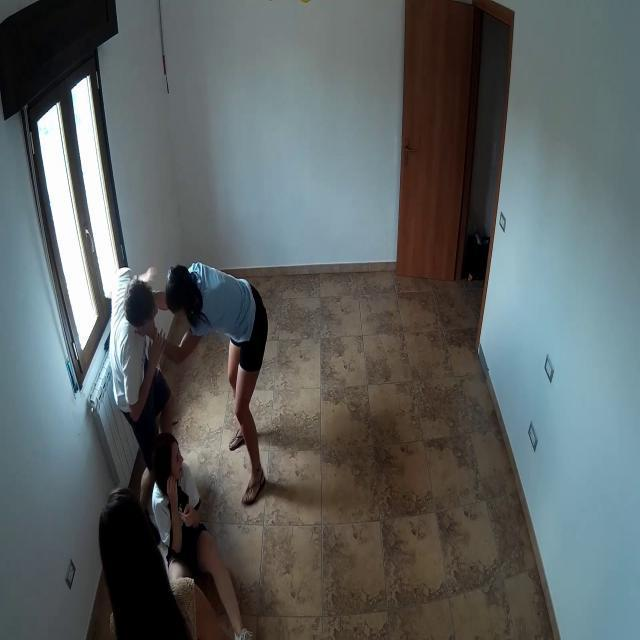non-violence: (135, 436, 253, 640)
violence: (107, 267, 264, 449)
